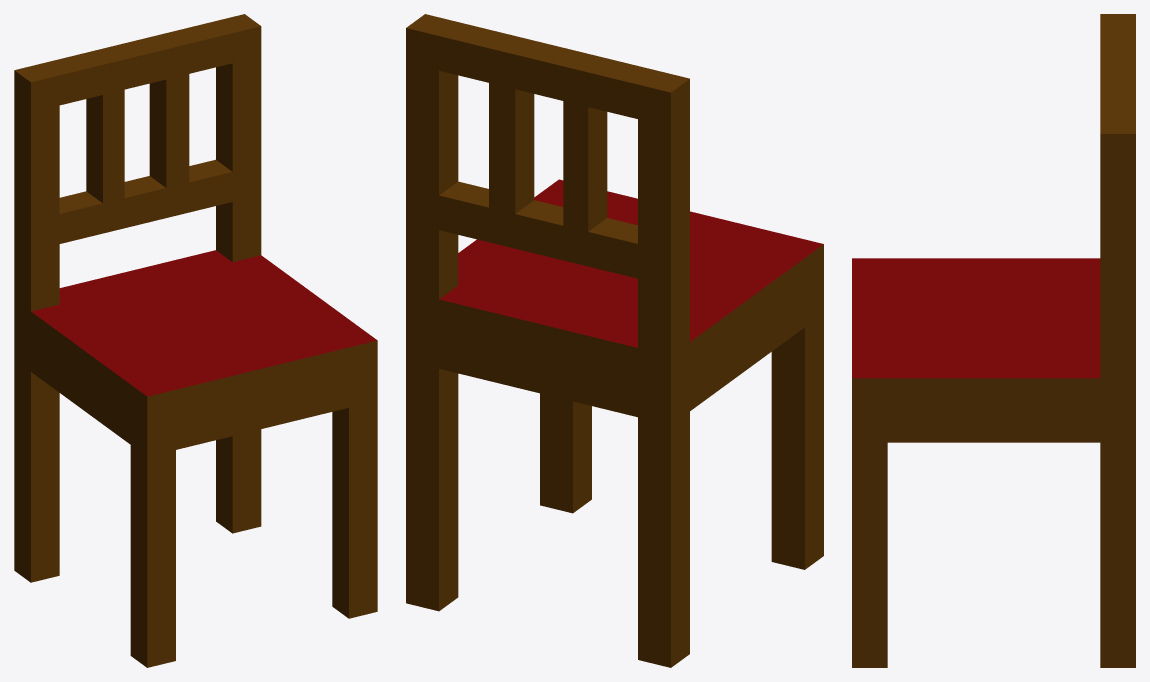
Rendered from chair01.fbx.
3 renders of one model, left to right at view 1: azimuth 30°, elevation 25°; view 2: azimuth 150°, elevation 25°; view 3: azimuth 270°, elevation 25°, orthographic. The views are drawn at different scales.
Visible parts, largest first — view 1: Cube; view 2: Cube; view 3: Cube.
Part boxes in pixels (<box>): Cube: <box>14,14,377,667</box>; Cube: <box>406,14,823,667</box>; Cube: <box>852,14,1135,667</box>.
Bounding box in the file's own units: 200 × 415 × 200.
